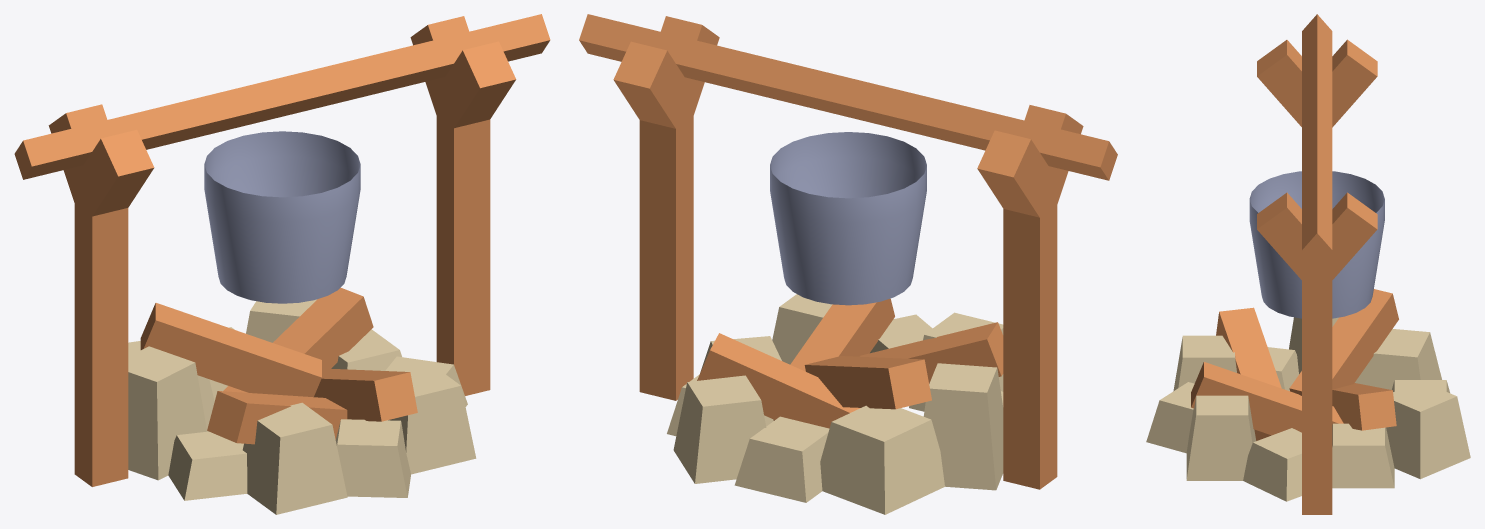
The model's file is campfire.fbx.
3 renders of one model, left to right at view 1: azimuth 30°, elevation 25°; view 2: azimuth 150°, elevation 25°; view 3: azimuth 270°, elevation 25°, orthographic. The views are drawn at different scales.
Parts seen in each view (by area): view 1: campfire, rocks, bucket, wood; view 2: campfire, rocks, bucket, wood; view 3: rocks, campfire, wood, bucket.
Boxes of the visible parts, left/top/right/bottom form: campfire: left=14, top=14, right=550, bottom=486; rocks: left=128, top=299, right=476, bottom=514; bucket: left=204, top=131, right=360, bottom=303; wood: left=140, top=287, right=417, bottom=444; campfire: left=579, top=14, right=1117, bottom=489; rocks: left=667, top=294, right=1003, bottom=514; bucket: left=770, top=132, right=926, bottom=305; wood: left=697, top=298, right=1003, bottom=428; rocks: left=1146, top=317, right=1470, bottom=501; campfire: left=1257, top=14, right=1377, bottom=514; wood: left=1191, top=289, right=1398, bottom=440; bucket: left=1249, top=171, right=1384, bottom=318.
Bounding box in the file's own units: 17.2 × 11.25 × 10.77.
